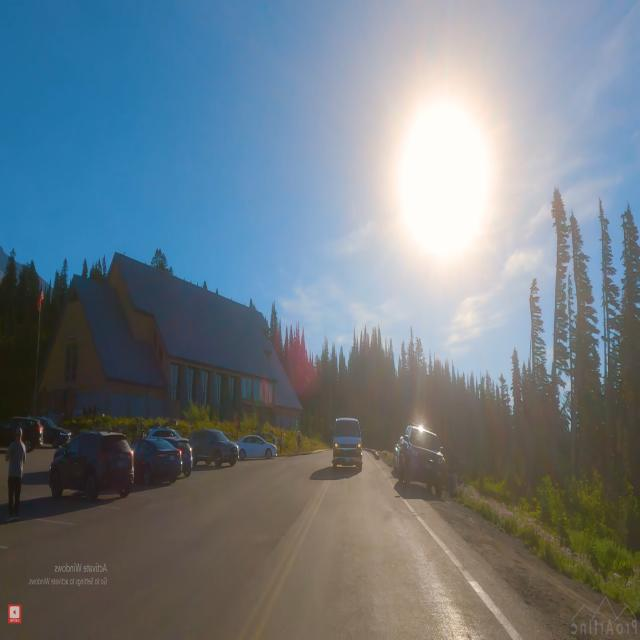sun: (363, 52, 524, 298)
